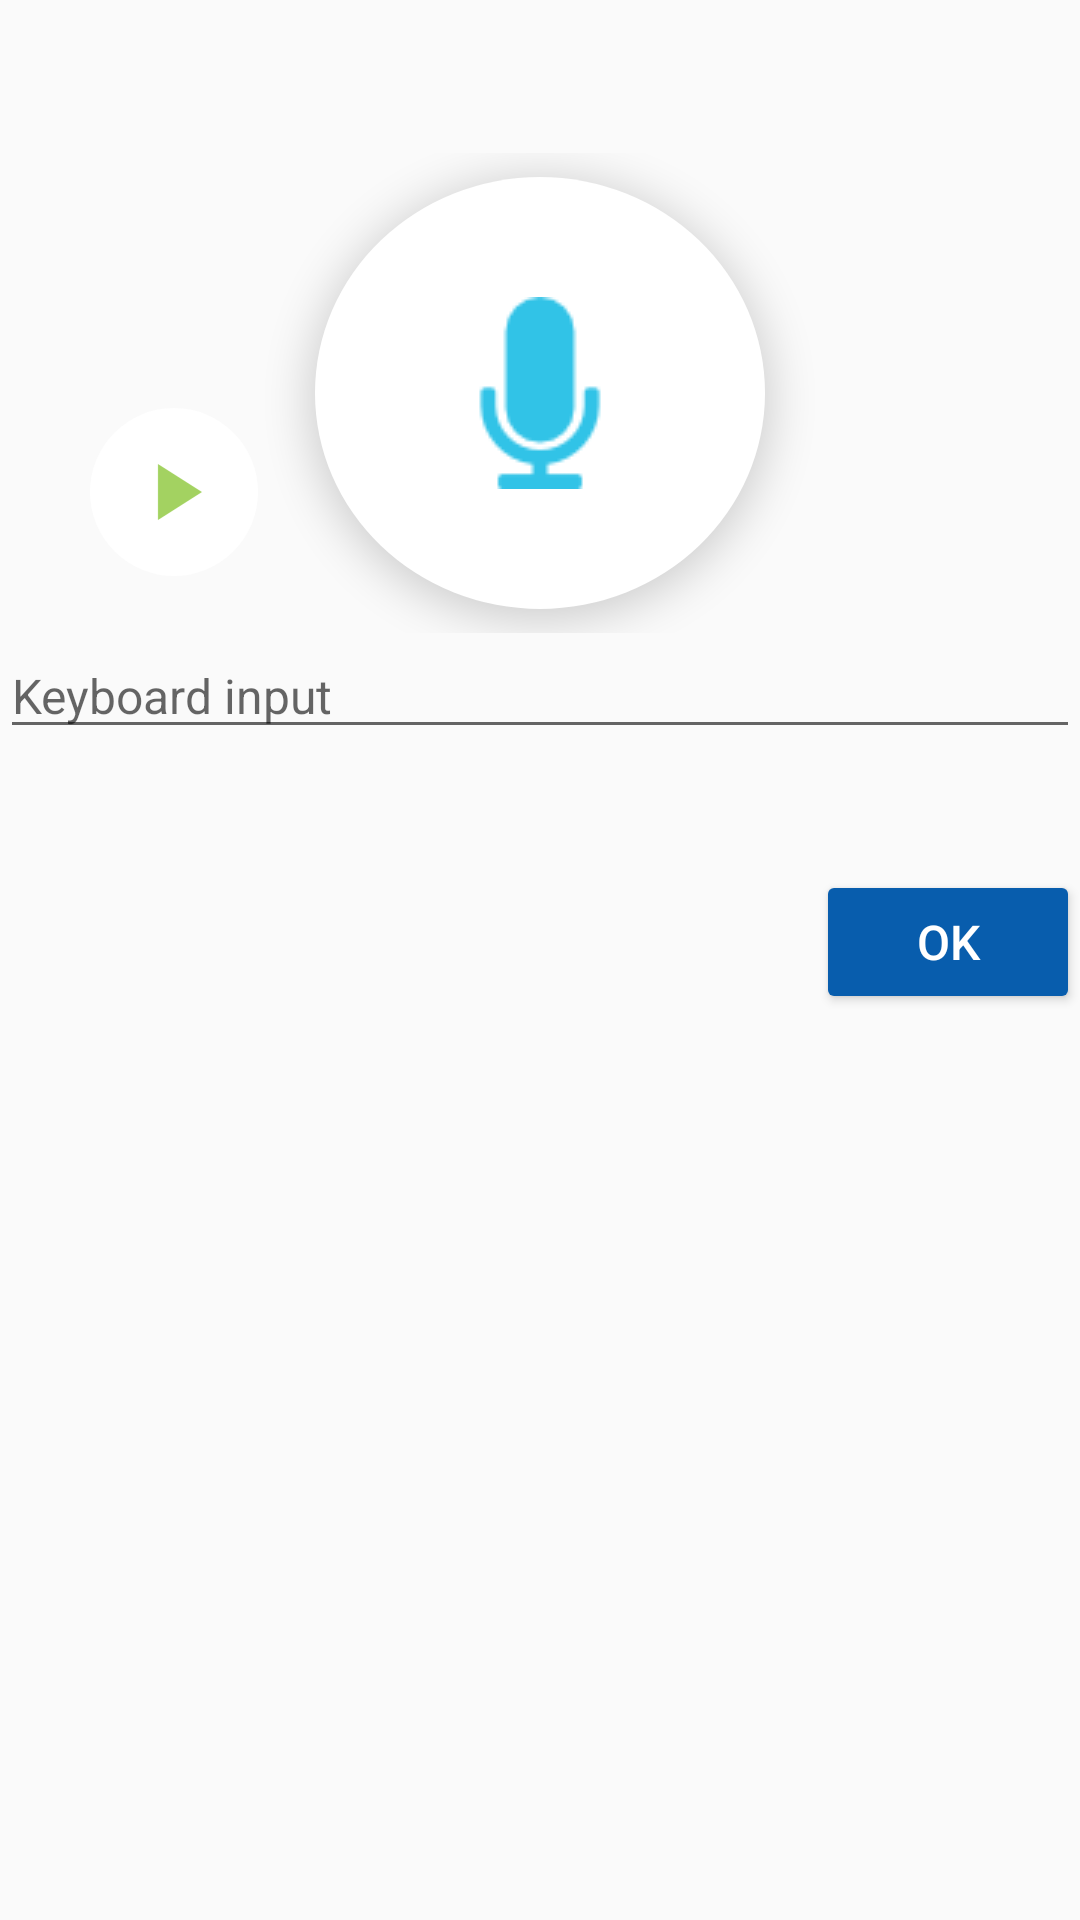

Locate icon controls on the screen. Image size 1080×1920, boxes as (x1=x1, y1=y1, x2=x2, y2=y2).
play: (x1=158, y1=464, x2=202, y2=520)
